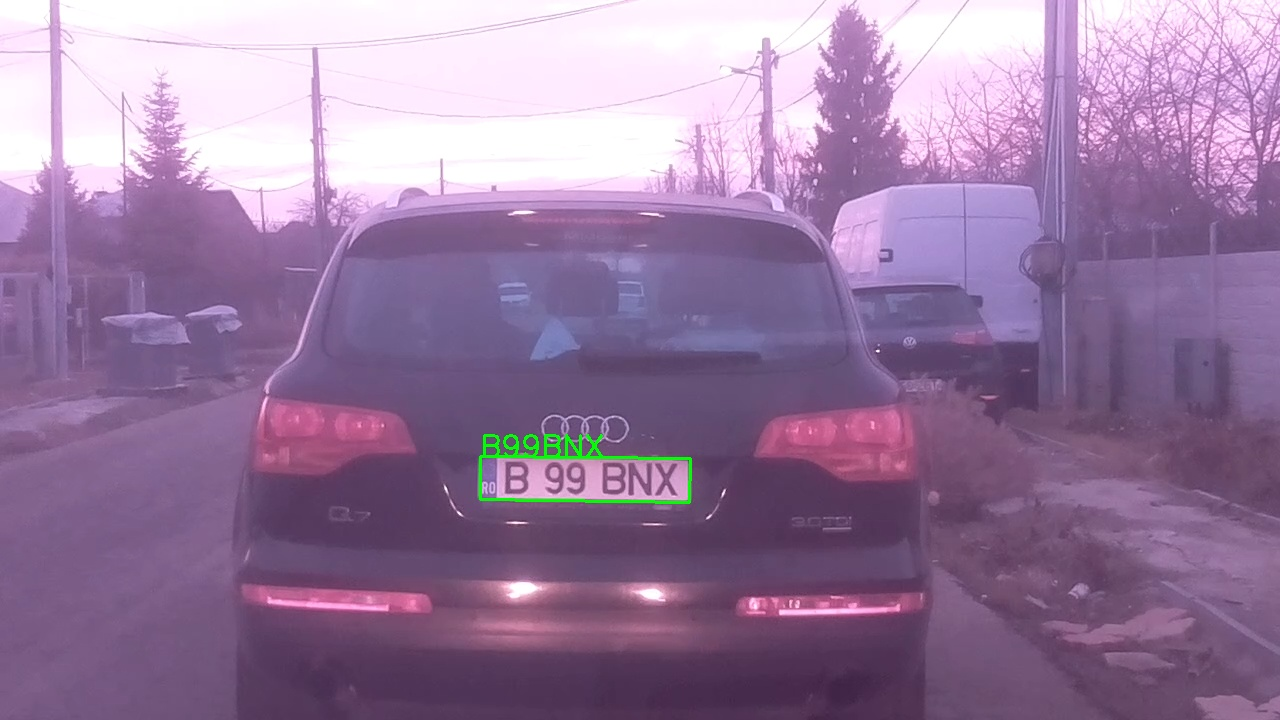license-plate: (479, 455, 691, 503)
